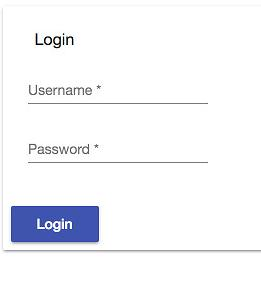button: (10, 205, 101, 243)
field_line: (25, 80, 209, 105), (26, 142, 209, 165)
